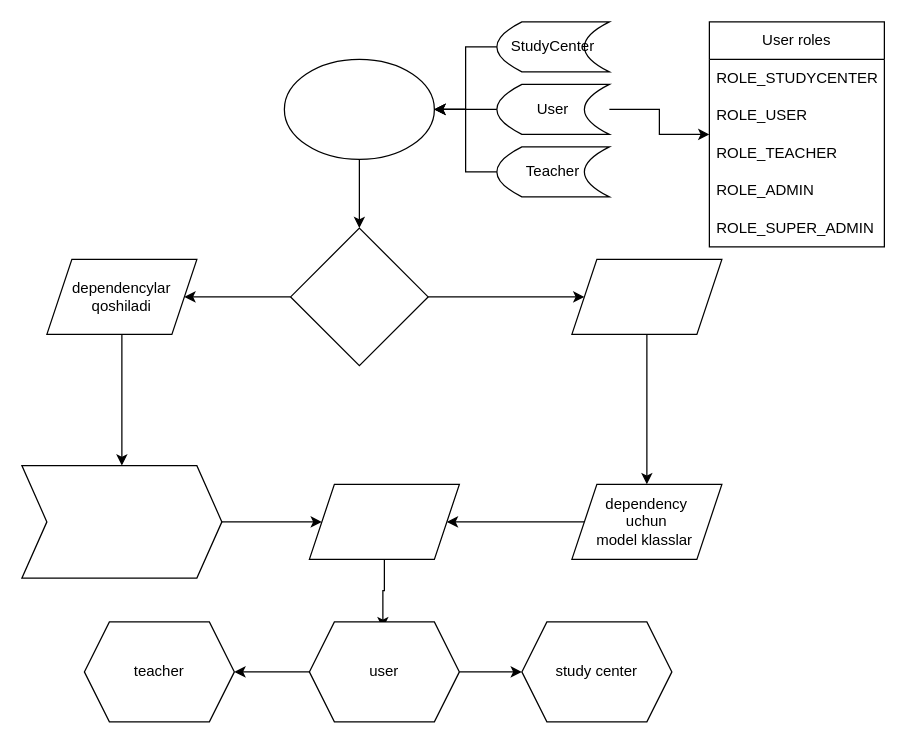
Image size: 906x744. Some labels were removed from this diagram. The centre of each missing label's shape, as x and y in pixels:
"Boglikliklar tuzib chiqiladi" belongs at point (358, 296).
"DTO klasslar yaratiladi" belongs at point (646, 296).
"Entitylar yaratiladi" belongs at point (358, 108).
"JWT, Spring session va Websocket configuratsiya qilinadi" belongs at point (121, 521).
"repository va servicelar yoziladi" belongs at point (383, 521).
